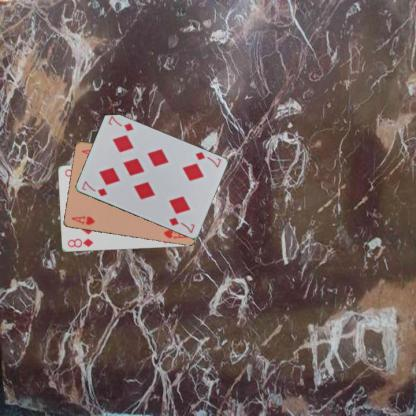7d: (192, 149, 222, 169), (79, 178, 108, 198)
8d: (65, 236, 94, 248)
Ah: (69, 213, 96, 227)
